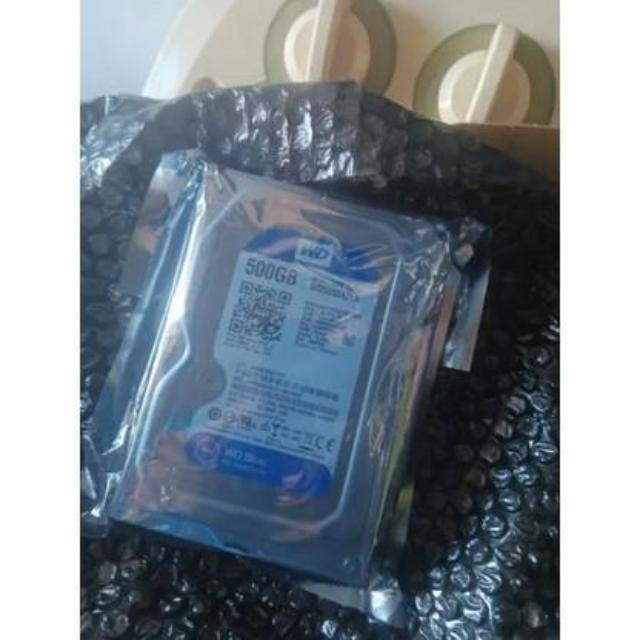DISK: (118, 154, 446, 602)
